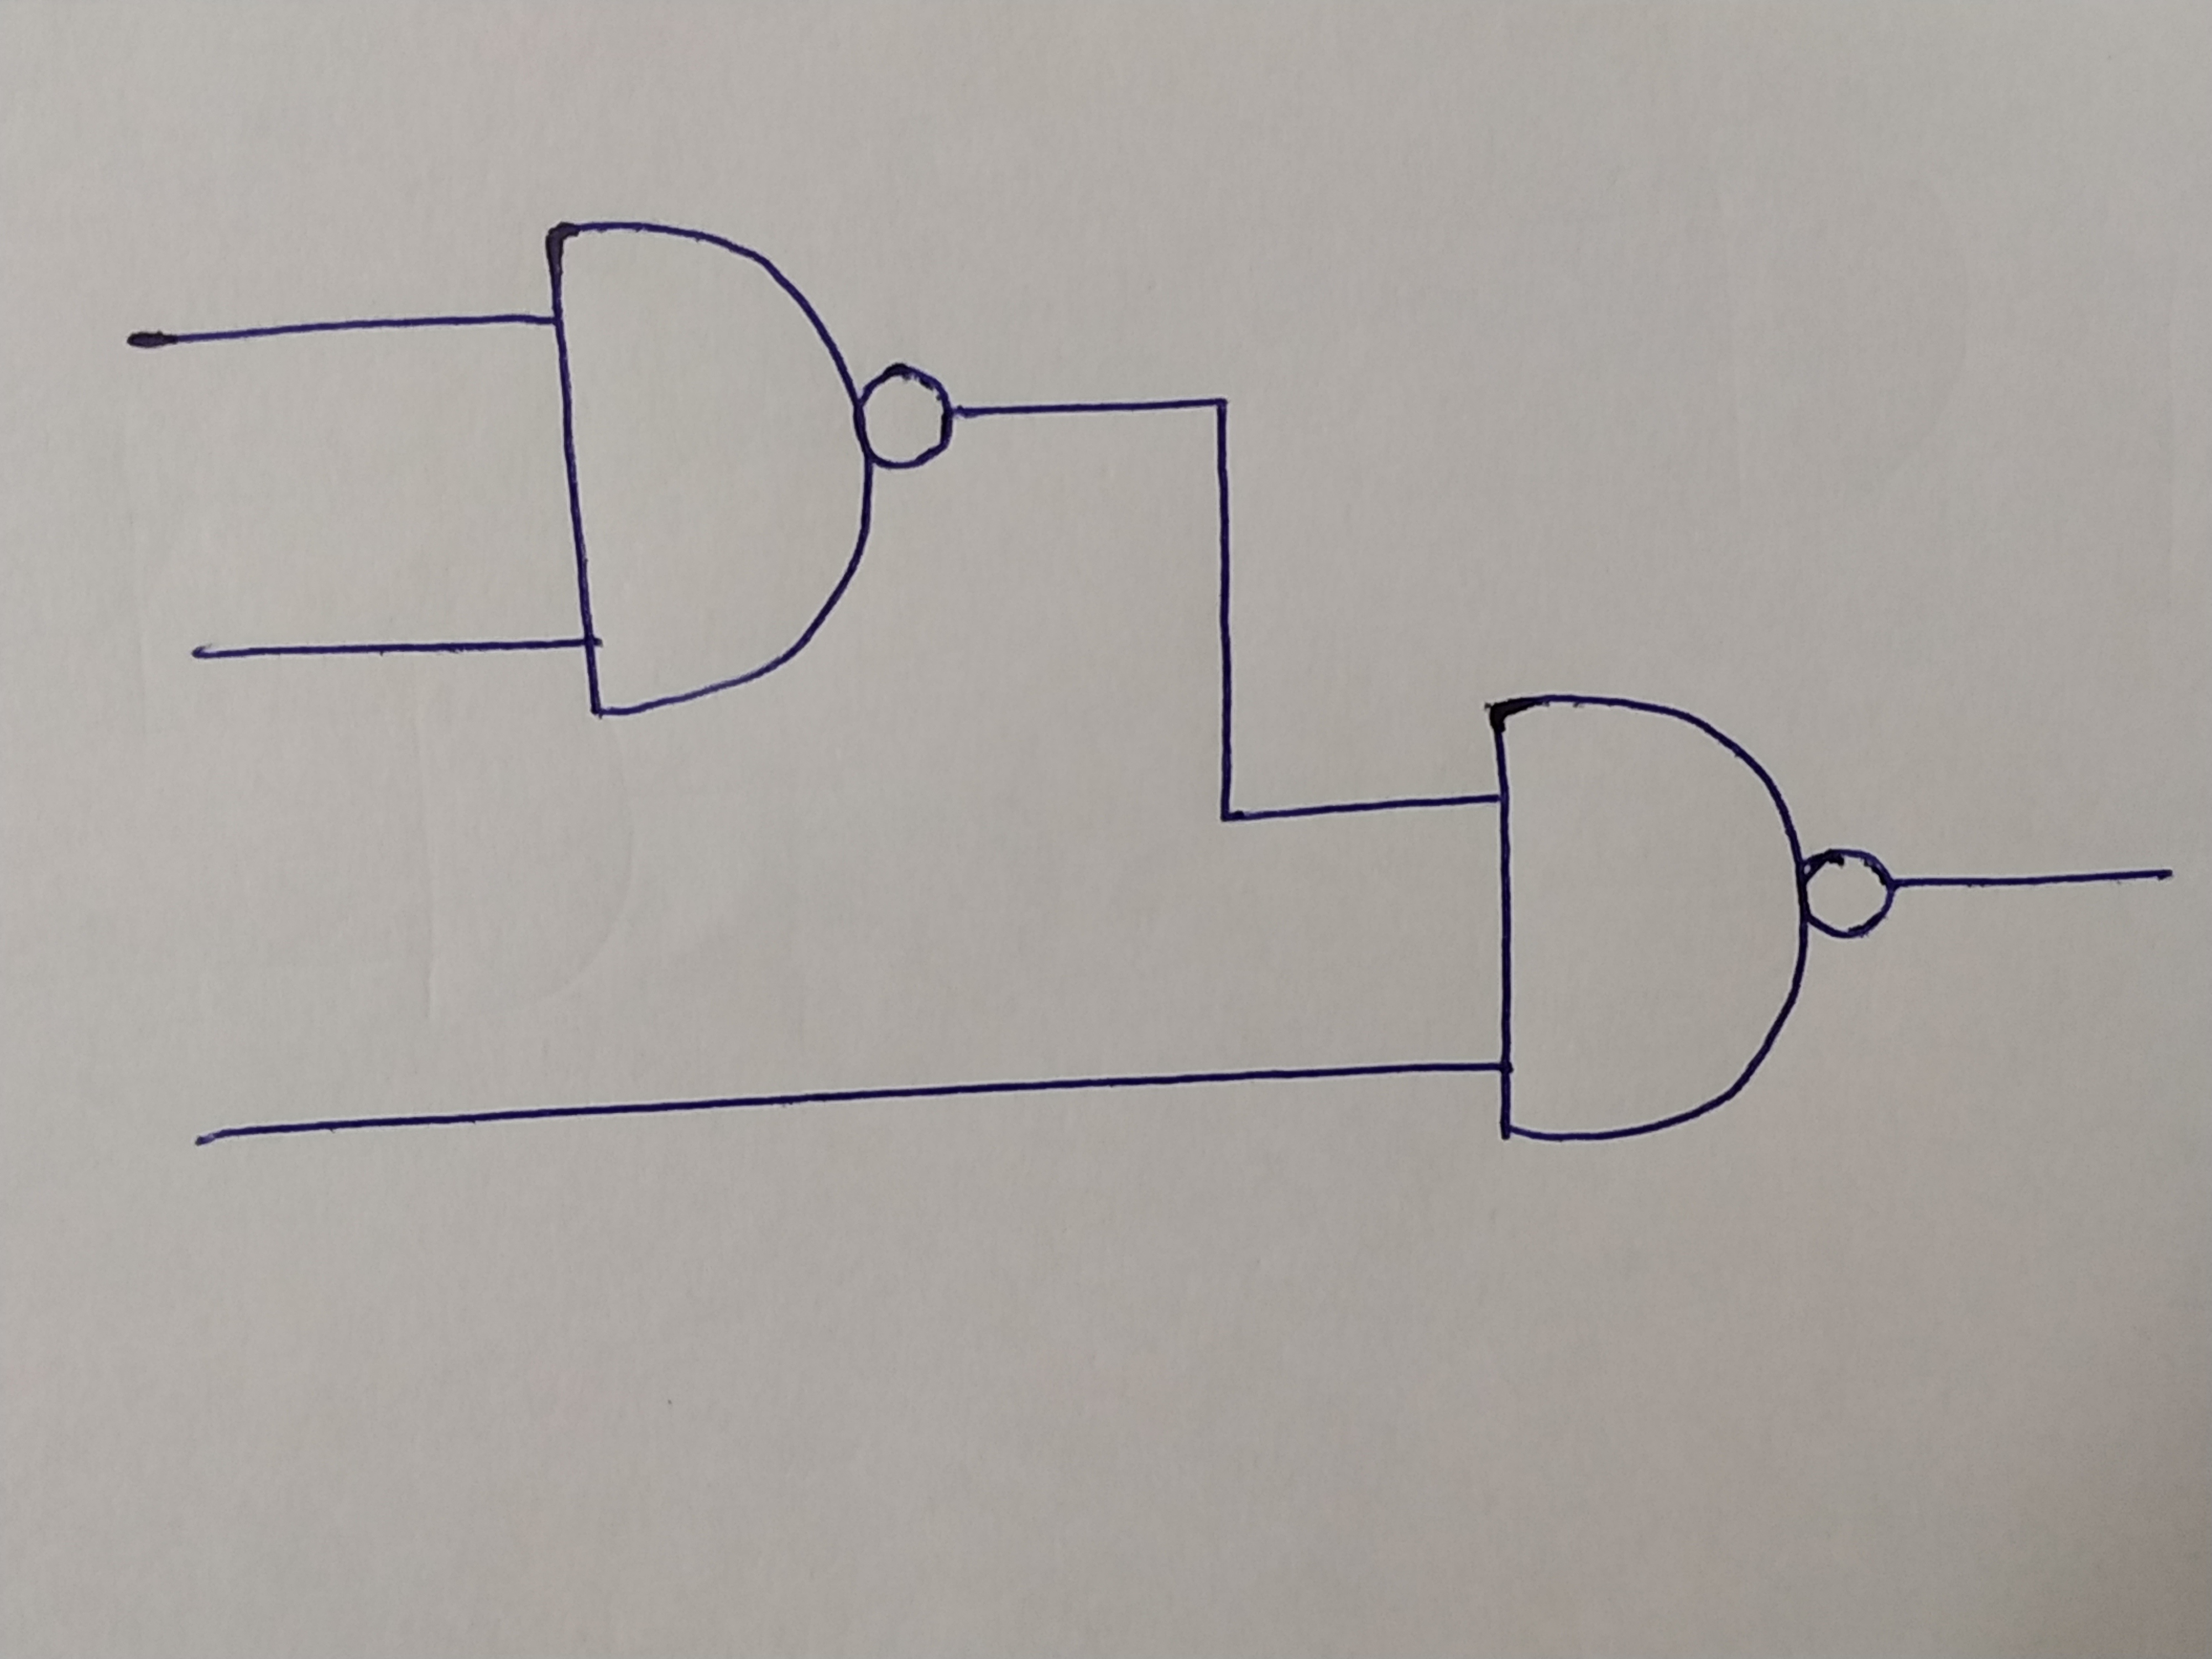and: (543, 220, 869, 711), (1489, 692, 1804, 1143)
not: (867, 362, 954, 469), (1801, 850, 1898, 941)
